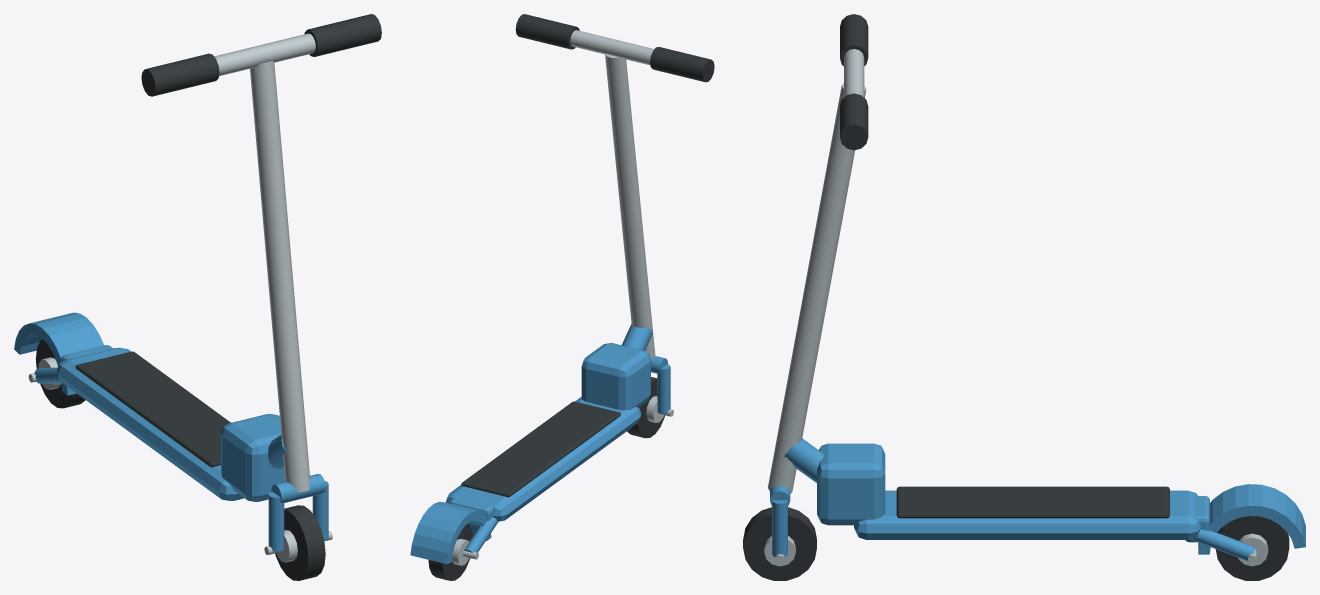
The model's file is kick_scooter.glb.
The picture shows the model from 3 angles, left to right: view 1: azimuth 30°, elevation 25°; view 2: azimuth 150°, elevation 25°; view 3: azimuth 270°, elevation 25°; orthographic projection. The views are drawn at different scales.
Parts seen in each view (by area): view 1: Scooter steering stem, Scooter fitted deck grip, Scooter blue deck, Scooter steering attachment block, Scooter rear curved fender, Scooter front wheel tire, Scooter handlebar grip, Scooter handlebar, Scooter handlebar grip.001, Scooter front fork, Scooter rear wheel tire, Scooter front fork bridge (+1 smaller); view 2: Scooter steering stem, Scooter fitted deck grip, Scooter steering attachment block, Scooter blue deck, Scooter rear curved fender, Scooter handlebar grip, Scooter handlebar, Scooter handlebar grip.001, Scooter rear wheel tire, Scooter front wheel tire, Scooter front fork, Scooter deck to steering brace (+2 smaller); view 3: Scooter fitted deck grip, Scooter steering stem, Scooter blue deck, Scooter steering attachment block, Scooter rear curved fender, Scooter front wheel tire, Scooter rear wheel tire, Scooter handlebar grip.001, Scooter handlebar grip, Scooter handlebar, Scooter rear wheel support.001, Scooter deck to steering brace (+1 smaller).
Part boxes in pixels (x1=…): Scooter steering stem: x1=250, y1=61, x2=310, y2=492; Scooter fitted deck grip: x1=75, y1=351, x2=230, y2=467; Scooter blue deck: x1=56, y1=347, x2=243, y2=500; Scooter steering attachment block: x1=221, y1=414, x2=285, y2=501; Scooter rear curved fender: x1=14, y1=312, x2=103, y2=395; Scooter front wheel tire: x1=275, y1=505, x2=325, y2=580; Scooter handlebar grip: x1=141, y1=53, x2=219, y2=96; Scooter handlebar: x1=214, y1=33, x2=315, y2=76; Scooter handlebar grip.001: x1=304, y1=14, x2=381, y2=56; Scooter front fork: x1=268, y1=491, x2=284, y2=551; Scooter rear wheel tire: x1=35, y1=339, x2=85, y2=408; Scooter front fork bridge: x1=271, y1=474, x2=325, y2=502; Scooter steering stem: x1=605, y1=54, x2=655, y2=359; Scooter fitted deck grip: x1=461, y1=401, x2=620, y2=497; Scooter steering attachment block: x1=581, y1=343, x2=650, y2=410; Scooter blue deck: x1=445, y1=397, x2=641, y2=521; Scooter rear curved fender: x1=410, y1=501, x2=491, y2=563; Scooter handlebar grip: x1=650, y1=47, x2=714, y2=82; Scooter handlebar: x1=570, y1=30, x2=654, y2=65; Scooter handlebar grip.001: x1=515, y1=14, x2=579, y2=49; Scooter rear wheel tire: x1=428, y1=523, x2=472, y2=580; Scooter front wheel tire: x1=627, y1=377, x2=664, y2=438; Scooter front fork: x1=657, y1=364, x2=670, y2=413; Scooter deck to steering brace: x1=622, y1=324, x2=652, y2=350; Scooter fitted deck grip: x1=896, y1=486, x2=1169, y2=518; Scooter steering stem: x1=767, y1=83, x2=866, y2=493; Scooter blue deck: x1=854, y1=490, x2=1201, y2=539; Scooter steering attachment block: x1=817, y1=443, x2=885, y2=525; Scooter rear curved fender: x1=1198, y1=484, x2=1305, y2=554; Scooter front wheel tire: x1=743, y1=507, x2=816, y2=580; Scooter rear wheel tire: x1=1215, y1=516, x2=1289, y2=580; Scooter handlebar grip.001: x1=840, y1=93, x2=868, y2=150; Scooter handlebar grip: x1=840, y1=14, x2=868, y2=66; Scooter handlebar: x1=844, y1=49, x2=864, y2=97; Scooter rear wheel support.001: x1=1191, y1=529, x2=1255, y2=561; Scooter deck to steering brace: x1=784, y1=438, x2=824, y2=482.
Bounding box in the file's own units: 0.46 × 0.984 × 0.9889.
